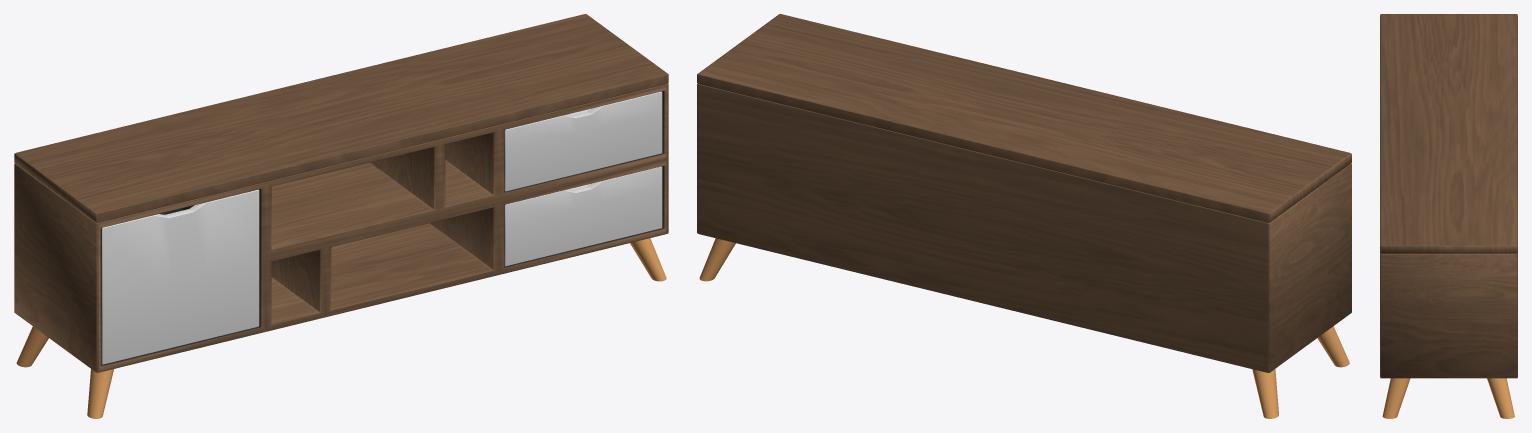
The model's file is solid_wood_tv_cabinet_1_wood_textures.glb.
3 views of the same model, side by side, from view 1: azimuth 30°, elevation 25°; view 2: azimuth 150°, elevation 25°; view 3: azimuth 270°, elevation 25° (orthographic). The views are drawn at different scales.
Parts seen in each view (by area): view 1: CABINET, STORAGE, DRAWER1, DRAWER2, LEG; view 2: CABINET, LEG; view 3: CABINET, LEG.
Part boxes in pixels (x1=…): CABINET: x1=14, y1=14, x2=668, y2=372; STORAGE: x1=102, y1=189, x2=259, y2=364; DRAWER1: x1=504, y1=91, x2=662, y2=191; DRAWER2: x1=504, y1=166, x2=662, y2=266; LEG: x1=16, y1=238, x2=666, y2=418; CABINET: x1=697, y1=14, x2=1351, y2=372; LEG: x1=699, y1=238, x2=1349, y2=418; CABINET: x1=1380, y1=14, x2=1517, y2=378; LEG: x1=1382, y1=378, x2=1514, y2=418.
Bounding box in the file's own units: 8.04 × 2.76 × 2.
4 materials, 1 textured.
